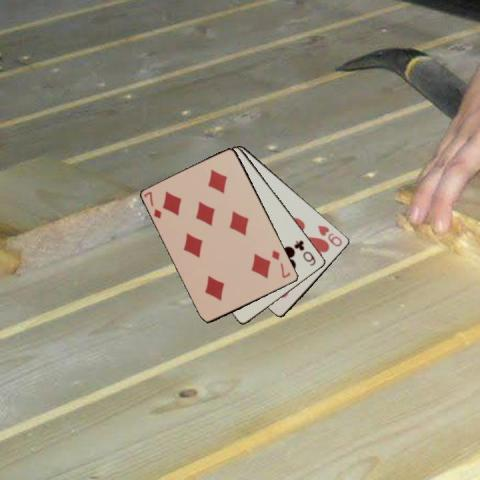6c: (292, 237, 318, 268)
7d: (269, 247, 292, 279), (142, 188, 163, 220)
9h: (315, 222, 344, 248)
